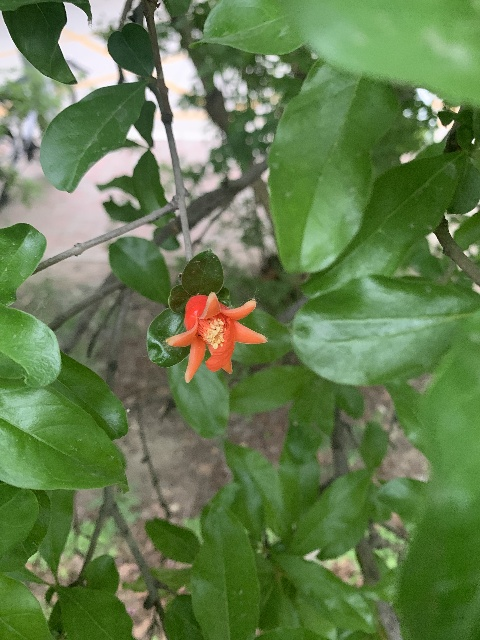flower: (166, 292, 267, 381)
